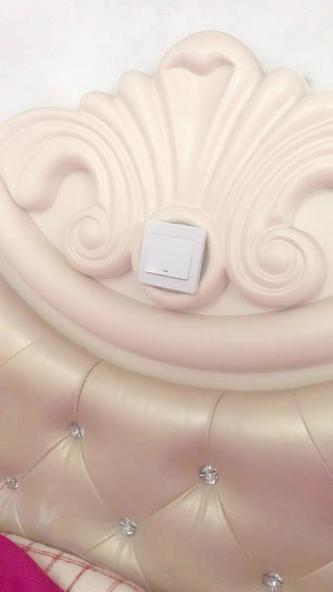switch: (144, 226, 197, 283)
